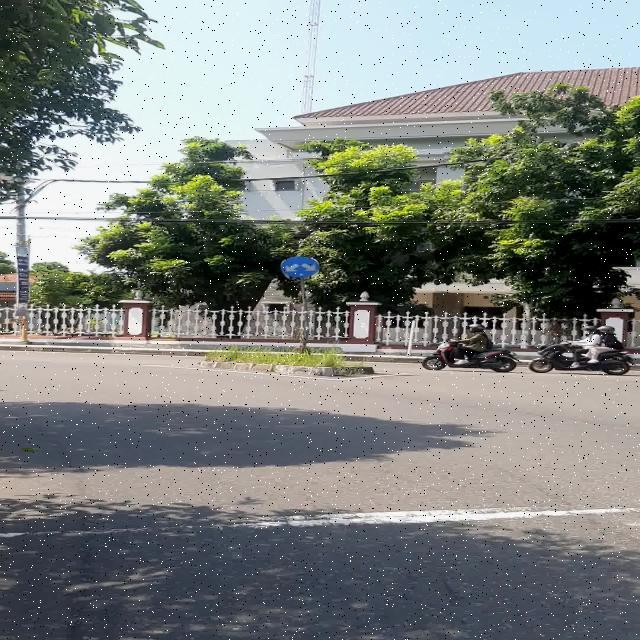Pilih Salah Satu Jalur: (281, 256, 319, 278)
